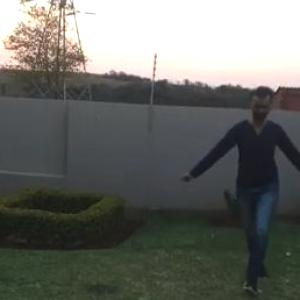land: (202, 88, 299, 262)
